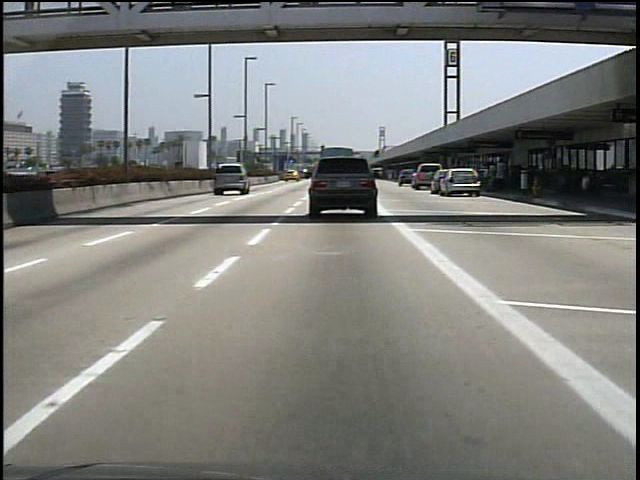person: (493, 155, 512, 194), (482, 160, 497, 194)
